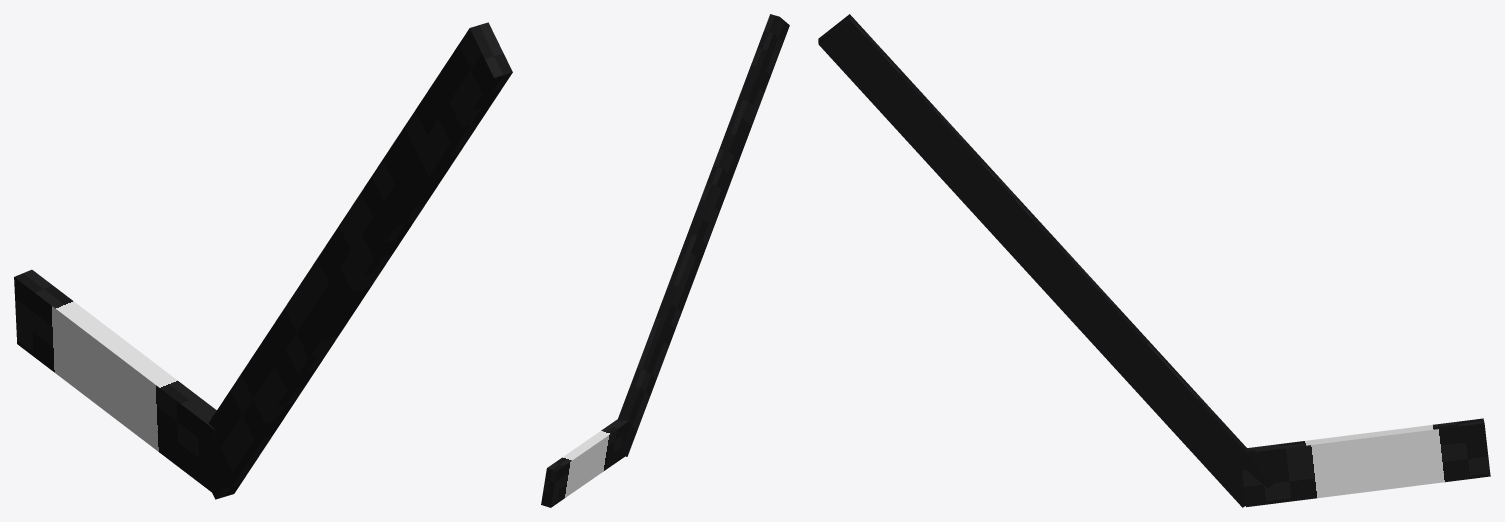
Rendered from hockey-stick-controlled.gltf.
3 views of the same model, side by side, from view 1: azimuth 30°, elevation 25°; view 2: azimuth 150°, elevation 25°; view 3: azimuth 270°, elevation 25° (orthographic). The views are drawn at different scales.
Parts seen in each view (by area): view 1: geo_shaft_geom_0, geo_blade_geom_0; view 2: geo_shaft_geom_0, geo_blade_geom_0; view 3: geo_shaft_geom_0, geo_blade_geom_0.
Boxes of the visible parts, x1,y1,x2,y2 form: geo_shaft_geom_0: (196, 22, 512, 499); geo_blade_geom_0: (14, 269, 216, 491); geo_shaft_geom_0: (618, 14, 789, 456); geo_blade_geom_0: (541, 418, 630, 507); geo_shaft_geom_0: (818, 14, 1273, 507); geo_blade_geom_0: (1241, 418, 1490, 507).
Size of the model in its own units: 0.0752 by 0.9437 by 1.2.
2 materials, 2 textured.
